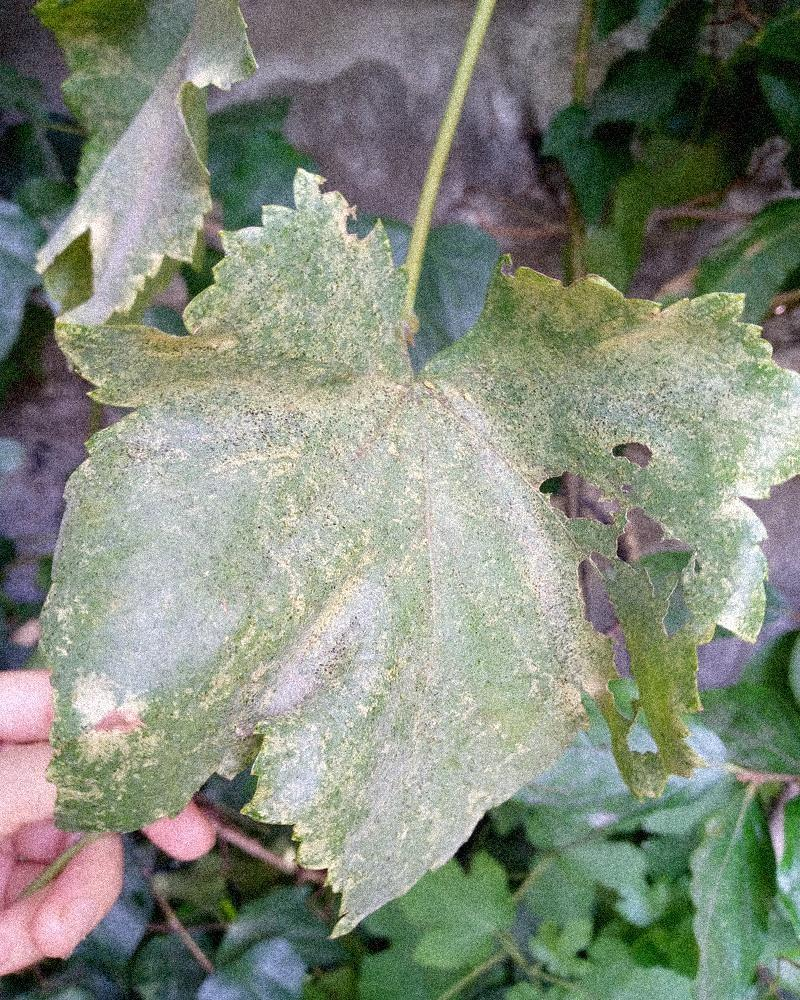Powdery-Mildew: (67, 183, 402, 399), (493, 268, 795, 499), (301, 386, 540, 553), (325, 709, 523, 900), (109, 399, 279, 617), (259, 576, 407, 758), (512, 530, 606, 729), (63, 642, 175, 804)
